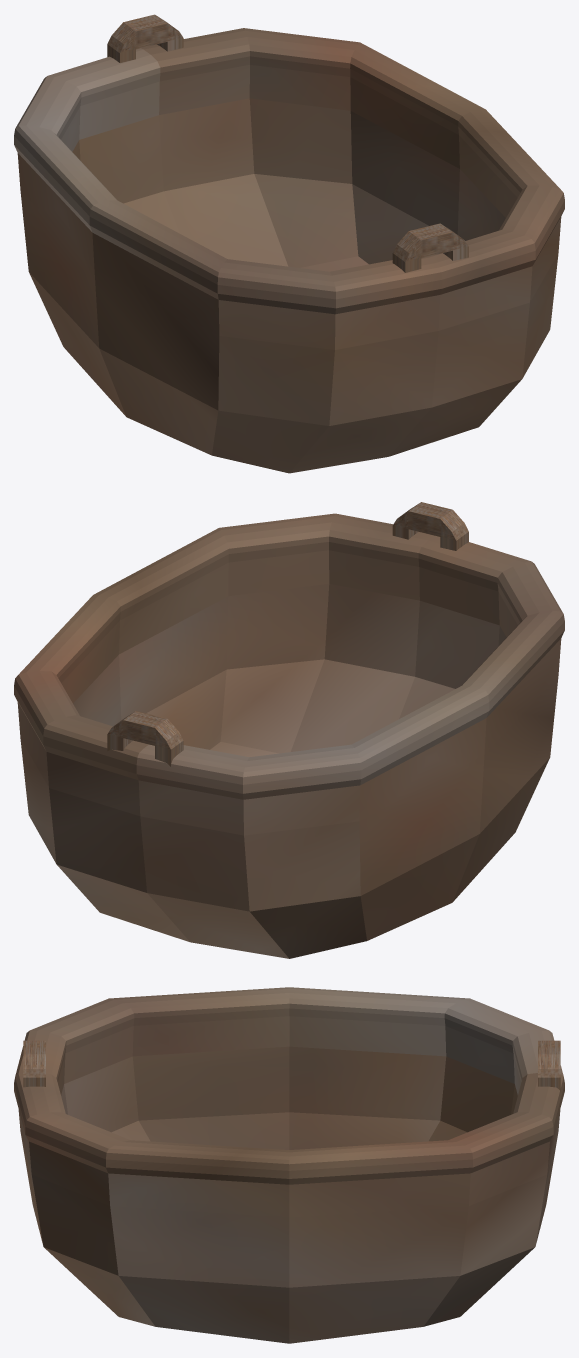
Rendered from cesto.fbx.
3 views of the same model, one above another, from view 1: azimuth 30°, elevation 25°; view 2: azimuth 150°, elevation 25°; view 3: azimuth 270°, elevation 25° (orthographic). The views are drawn at different scales.
Parts seen in each view (by area): view 1: Cube, Cube.002, Cube.001; view 2: Cube, Cube.001, Cube.002; view 3: Cube, Cube.001, Cube.002.
Part boxes in pixels (x1,y1,x2,y2): Cube: (14, 28, 564, 473); Cube.002: (392, 223, 468, 272); Cube.001: (107, 14, 183, 62); Cube: (14, 513, 564, 958); Cube.001: (107, 711, 183, 766); Cube.002: (392, 502, 468, 550); Cube: (14, 987, 564, 1343); Cube.001: (538, 1040, 560, 1091); Cube.002: (23, 1040, 45, 1087).
Size of the model in its own units: 311 by 213 by 412.
